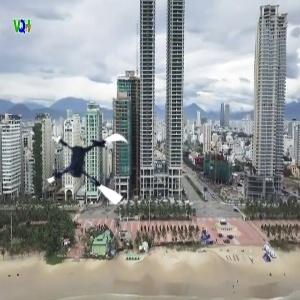drone: (48, 123, 139, 214)
